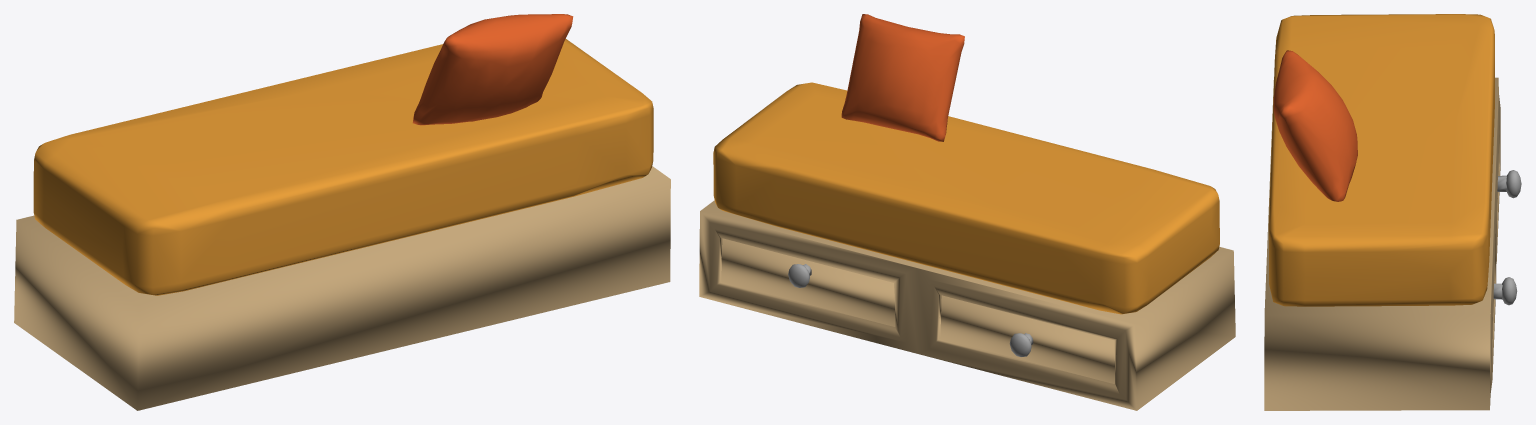
Rendered from Pillow.002_LOD1.fbx.
3 renders of one model, left to right at view 1: azimuth 30°, elevation 25°; view 2: azimuth 150°, elevation 25°; view 3: azimuth 270°, elevation 25°, orthographic. The views are drawn at different scales.
Parts seen in each view (by area): view 1: Pillow_002; view 2: Pillow_002; view 3: Pillow_002.
Boxes of the visible parts, left/top/right/bottom form: Pillow_002: left=14, top=14, right=670, bottom=410; Pillow_002: left=699, top=14, right=1235, bottom=410; Pillow_002: left=1264, top=14, right=1521, bottom=410.
Bounding box in the file's own units: 432 × 225 × 194.
